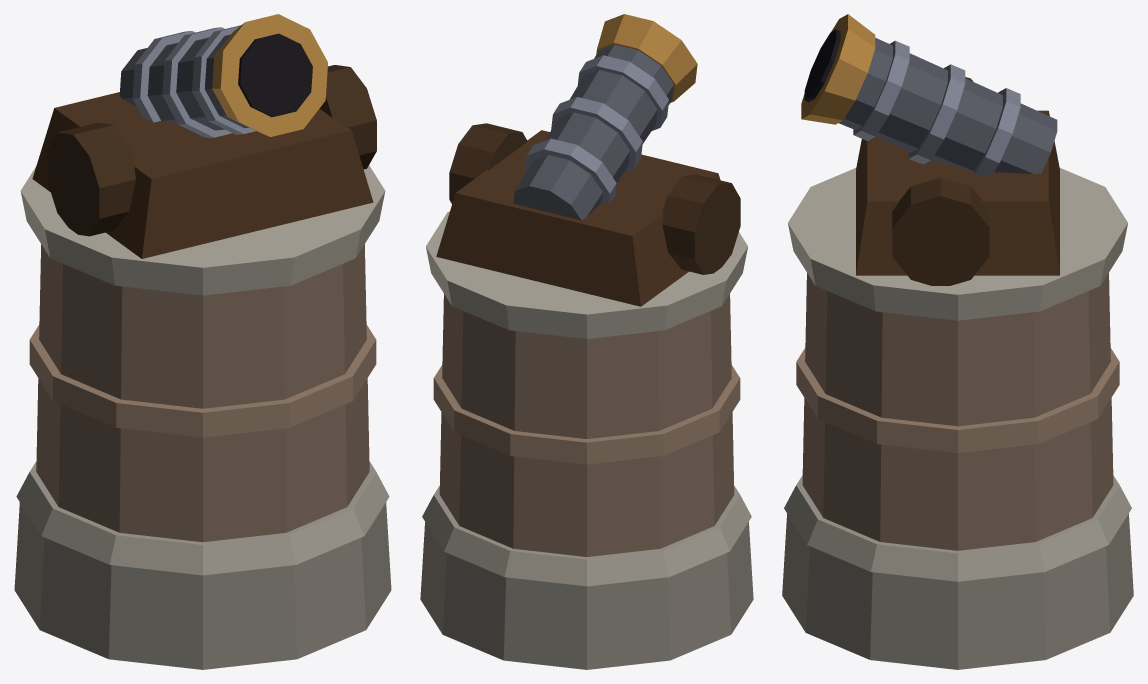
File: tower_cannon_l1.glb
3 views of the same model, side by side, from view 1: azimuth 30°, elevation 25°; view 2: azimuth 150°, elevation 25°; view 3: azimuth 270°, elevation 25° (orthographic). The views are drawn at different scales.
Parts seen in each view (by area): view 1: Body, Turret; view 2: Body, Turret; view 3: Body, Turret.
Part boxes in pixels (x1,y1,x2,y2): Body: (14, 165, 391, 669); Turret: (32, 14, 376, 258); Body: (420, 211, 753, 669); Turret: (436, 14, 740, 306); Body: (782, 168, 1133, 669); Turret: (801, 14, 1059, 285).
Bounding box in the file's own units: 0.62 × 1.12 × 0.62.
